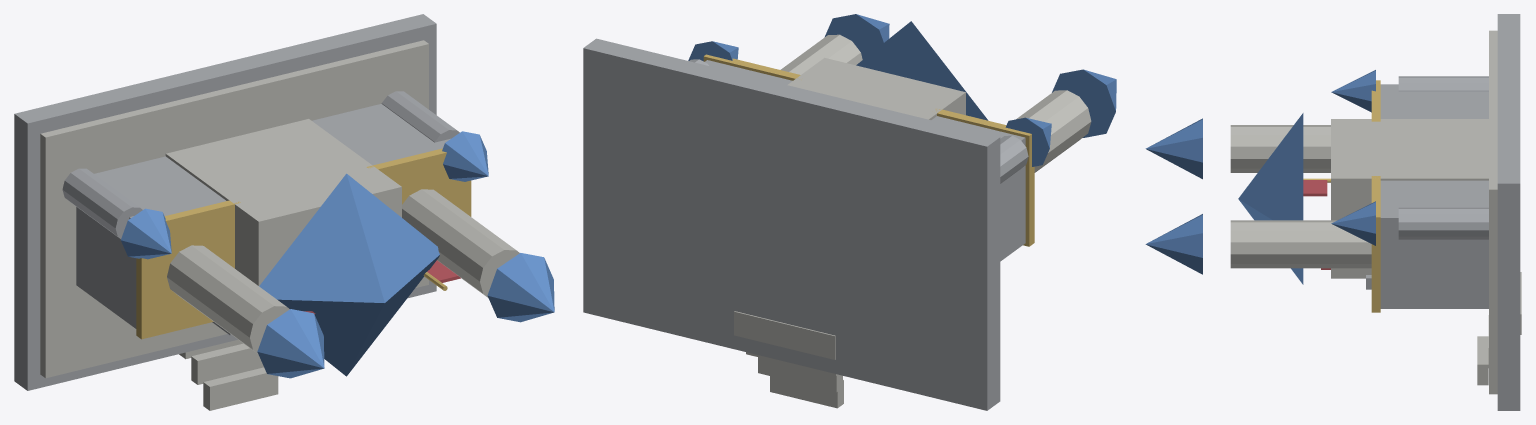
File: 01_Guild_Castle.glb
3 views of the same model, side by side, from view 1: azimuth 30°, elevation 25°; view 2: azimuth 150°, elevation 25°; view 3: azimuth 270°, elevation 25° (orthographic). The views are drawn at different scales.
Visible parts, largest first — view 1: 01_Guild_Castle_001, 01_Guild_Castle_000, 01_Guild_Castle_016, 01_Guild_Castle_002, 01_Guild_Castle_006, 01_Guild_Castle_007, 01_Guild_Castle_008, 01_Guild_Castle_013, 01_Guild_Castle_011, 01_Guild_Castle_014, 01_Guild_Castle_009, 01_Guild_Castle_012 (+6 smaller); view 2: 01_Guild_Castle_000, 01_Guild_Castle_002, 01_Guild_Castle_016, 01_Guild_Castle_008, 01_Guild_Castle_006, 01_Guild_Castle_022, 01_Guild_Castle_009, 01_Guild_Castle_007, 01_Guild_Castle_014, 01_Guild_Castle_013, 01_Guild_Castle_024, 01_Guild_Castle_025 (+5 smaller); view 3: 01_Guild_Castle_002, 01_Guild_Castle_011, 01_Guild_Castle_000, 01_Guild_Castle_013, 01_Guild_Castle_016, 01_Guild_Castle_008, 01_Guild_Castle_001, 01_Guild_Castle_006, 01_Guild_Castle_020, 01_Guild_Castle_009, 01_Guild_Castle_014, 01_Guild_Castle_018 (+6 smaller).
Part boxes in pixels (bbox=[...]): 01_Guild_Castle_001: bbox=[40, 40, 428, 378]; 01_Guild_Castle_000: bbox=[14, 14, 436, 390]; 01_Guild_Castle_016: bbox=[259, 173, 439, 376]; 01_Guild_Castle_002: bbox=[165, 119, 401, 285]; 01_Guild_Castle_006: bbox=[76, 156, 225, 328]; 01_Guild_Castle_007: bbox=[136, 200, 240, 339]; 01_Guild_Castle_008: bbox=[167, 245, 289, 353]; 01_Guild_Castle_013: bbox=[402, 189, 519, 297]; 01_Guild_Castle_011: bbox=[312, 104, 450, 165]; 01_Guild_Castle_014: bbox=[487, 253, 554, 322]; 01_Guild_Castle_009: bbox=[257, 309, 324, 378]; 01_Guild_Castle_012: bbox=[366, 148, 471, 216]; 01_Guild_Castle_000: bbox=[583, 38, 1000, 410]; 01_Guild_Castle_002: bbox=[787, 57, 965, 119]; 01_Guild_Castle_016: bbox=[856, 21, 988, 120]; 01_Guild_Castle_008: bbox=[1016, 90, 1091, 172]; 01_Guild_Castle_006: bbox=[931, 116, 1025, 261]; 01_Guild_Castle_022: bbox=[734, 311, 835, 359]; 01_Guild_Castle_009: bbox=[1052, 69, 1116, 137]; 01_Guild_Castle_007: bbox=[935, 109, 1034, 246]; 01_Guild_Castle_014: bbox=[824, 14, 889, 59]; 01_Guild_Castle_013: bbox=[780, 34, 862, 74]; 01_Guild_Castle_024: bbox=[758, 357, 842, 392]; 01_Guild_Castle_025: bbox=[770, 376, 843, 408]; 01_Guild_Castle_002: bbox=[1331, 119, 1488, 278]; 01_Guild_Castle_011: bbox=[1380, 180, 1488, 308]; 01_Guild_Castle_000: bbox=[1497, 14, 1520, 410]; 01_Guild_Castle_013: bbox=[1230, 220, 1371, 268]; 01_Guild_Castle_016: bbox=[1238, 113, 1303, 284]; 01_Guild_Castle_008: bbox=[1230, 125, 1330, 172]; 01_Guild_Castle_001: bbox=[1489, 30, 1497, 394]; 01_Guild_Castle_006: bbox=[1380, 84, 1488, 118]; 01_Guild_Castle_020: bbox=[1398, 207, 1488, 239]; 01_Guild_Castle_009: bbox=[1145, 118, 1202, 179]; 01_Guild_Castle_014: bbox=[1145, 214, 1202, 274]; 01_Guild_Castle_018: bbox=[1398, 76, 1488, 91].
Bounding box in the file's own units: 8 × 5.98 × 7.5.
